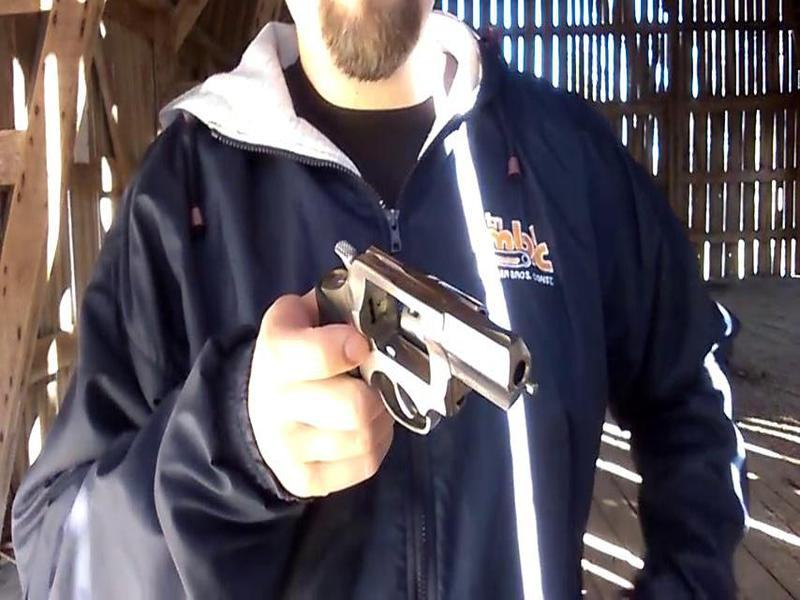Revolver: (287, 236, 565, 488)
